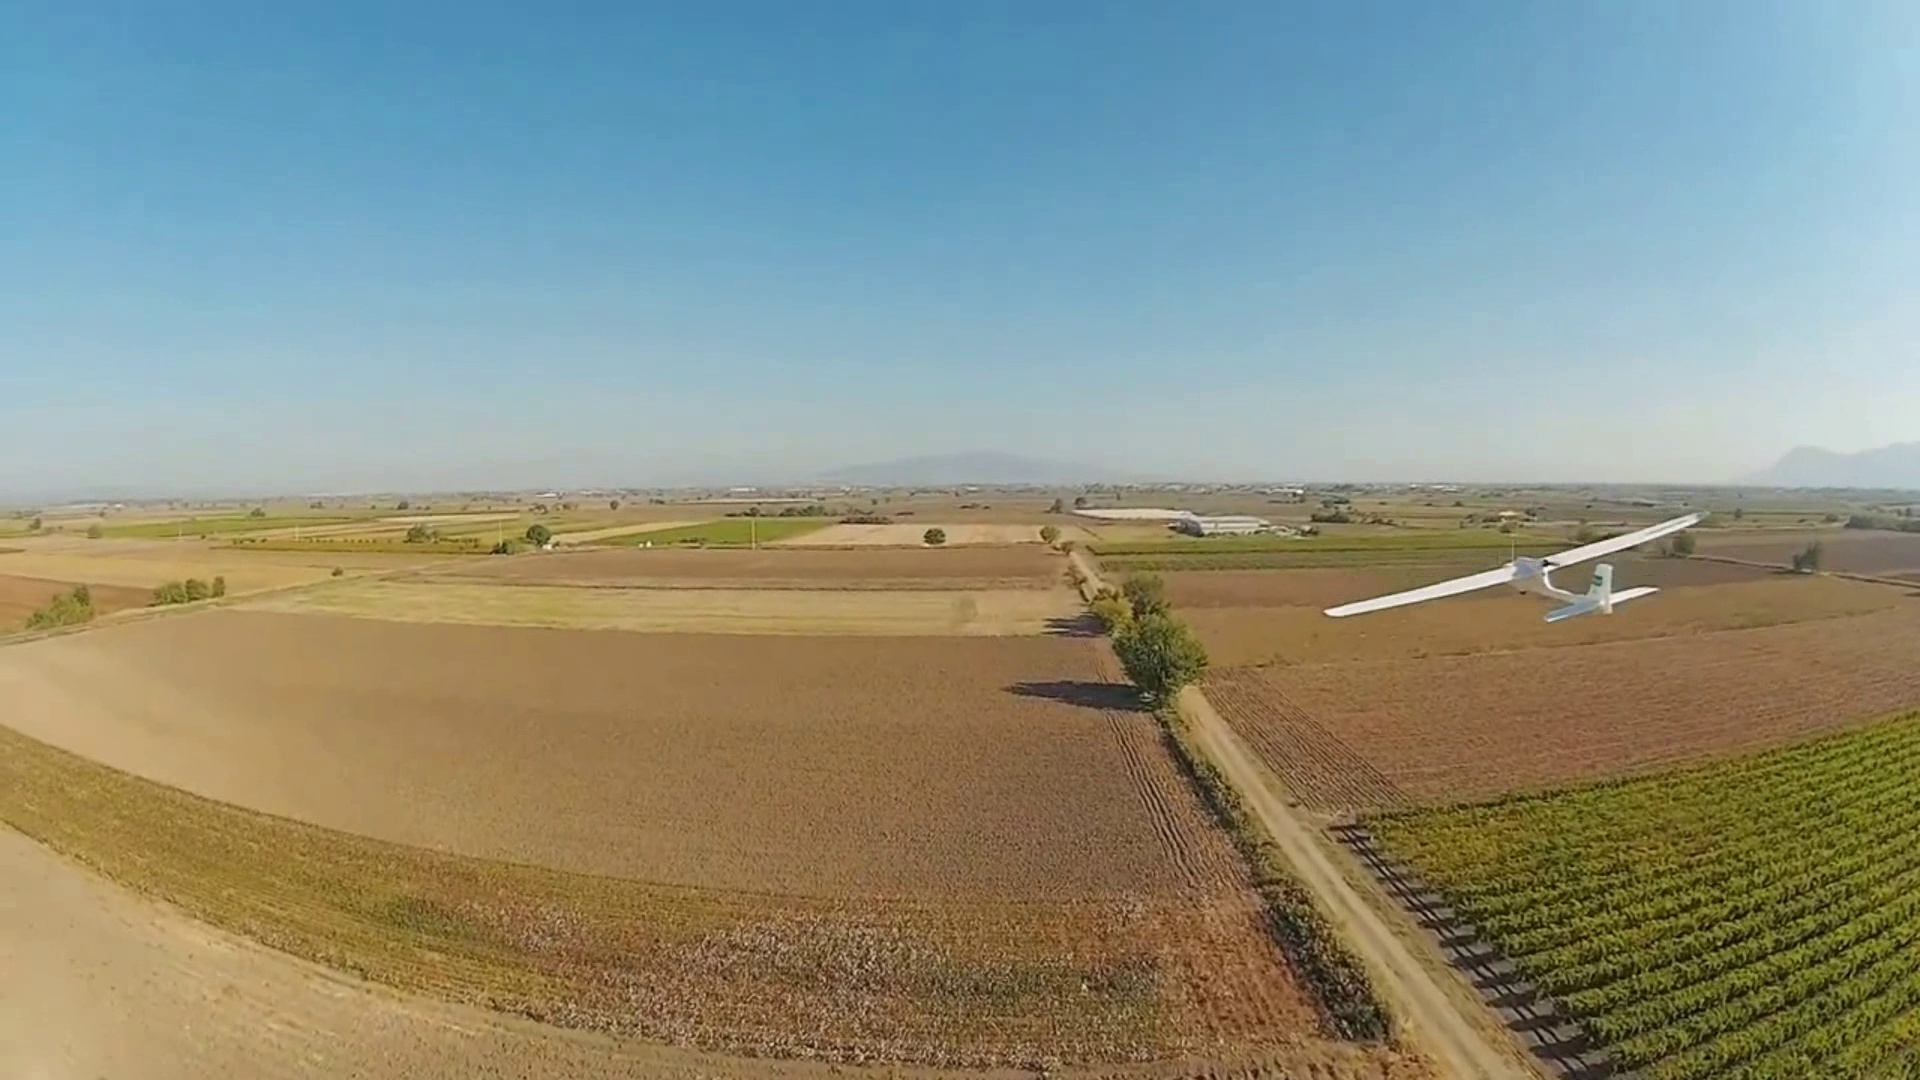airplane: (1324, 502, 1704, 621)
